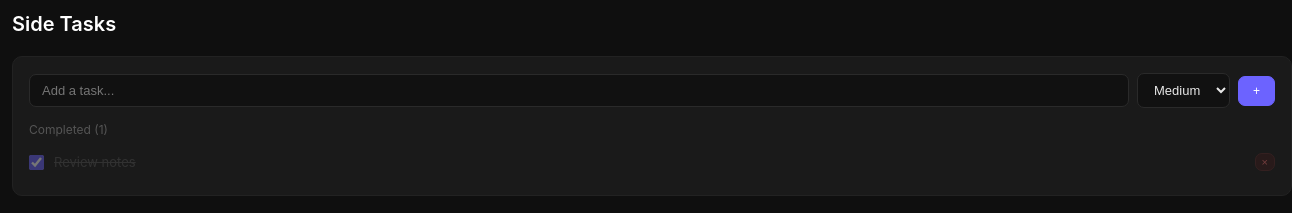
Test: Tasks › unchecking a completed task moves it back to pending
Expected: the text "Completed (1)" is shown, [29,122,108,137]
Step 1. Click the checkbox → click(36, 162), box [29,154,44,170]
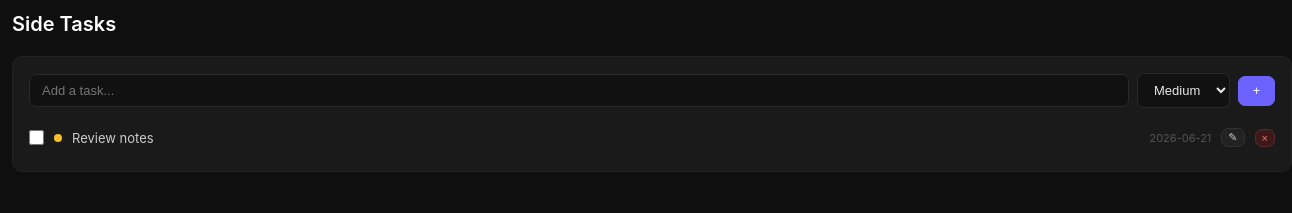
Expected: the text "Completed" is gone
